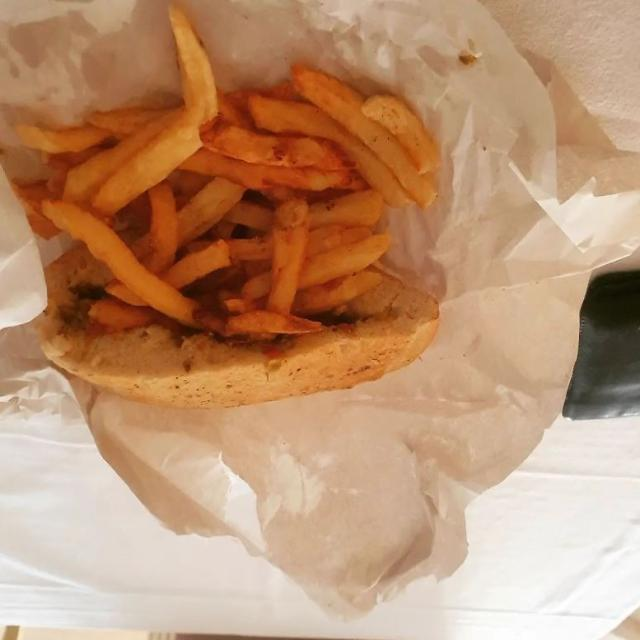Sandwitch tounsi: (33, 206, 459, 414)
